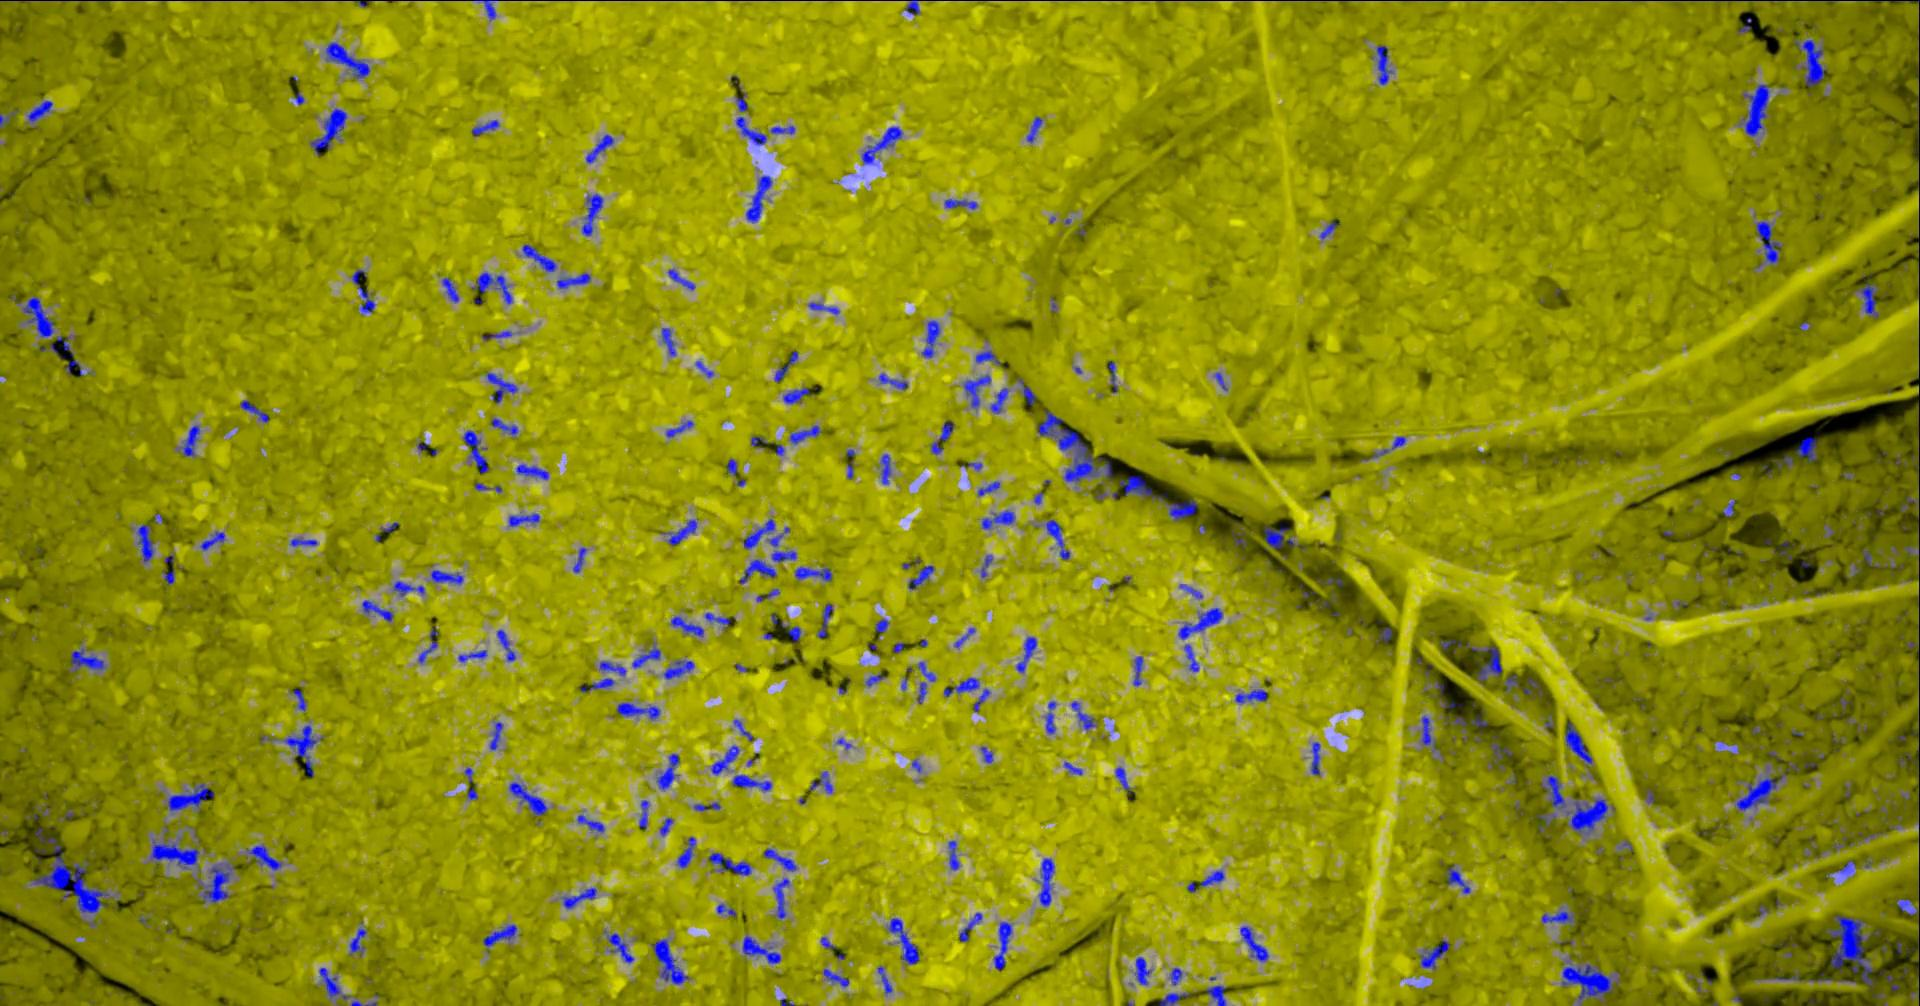ant: (1561, 963, 1617, 1005), (283, 725, 323, 776), (1736, 774, 1785, 810), (650, 939, 688, 984), (310, 107, 345, 155), (1566, 798, 1614, 833), (1793, 38, 1826, 86), (325, 42, 370, 77), (1740, 84, 1769, 136), (861, 126, 902, 163), (198, 862, 235, 902), (150, 838, 199, 868), (22, 295, 55, 337), (1178, 607, 1222, 639), (888, 918, 918, 963), (508, 782, 547, 815), (168, 782, 213, 810), (471, 272, 510, 304), (745, 175, 771, 222), (1119, 475, 1166, 500), (1564, 721, 1592, 763), (1755, 221, 1782, 263), (1263, 523, 1305, 550), (55, 335, 83, 375), (742, 935, 780, 963), (350, 269, 375, 312), (767, 526, 796, 561), (1239, 926, 1269, 962), (463, 431, 488, 473), (1470, 647, 1501, 680), (485, 372, 517, 403), (743, 518, 775, 549), (709, 852, 750, 875), (483, 923, 517, 951), (1045, 520, 1069, 559), (521, 244, 556, 271), (662, 518, 697, 545), (245, 843, 281, 870), (963, 373, 990, 406), (738, 559, 776, 583), (993, 921, 1012, 969), (770, 612, 800, 641), (1418, 939, 1449, 968), (710, 746, 739, 775), (735, 116, 766, 144), (582, 193, 602, 235), (70, 648, 104, 672), (585, 133, 613, 163), (657, 753, 679, 789), (1037, 857, 1054, 906), (1858, 279, 1878, 318), (417, 627, 438, 663), (930, 420, 952, 453), (1542, 775, 1564, 808), (763, 848, 796, 871), (606, 934, 632, 962), (1445, 864, 1470, 893), (1016, 636, 1036, 672), (616, 702, 659, 719), (1490, 734, 1511, 767), (563, 887, 596, 908), (1070, 701, 1095, 730), (921, 320, 940, 357), (775, 351, 797, 381), (317, 967, 340, 997), (361, 600, 392, 621), (943, 677, 979, 696), (670, 616, 703, 636), (959, 912, 982, 941), (1167, 498, 1197, 520), (731, 774, 771, 790), (907, 565, 933, 589), (239, 400, 268, 422), (773, 878, 789, 918), (1895, 898, 1919, 923), (789, 426, 820, 445), (497, 629, 516, 661), (667, 268, 695, 290), (1377, 44, 1392, 84), (982, 511, 1015, 528), (180, 426, 199, 456), (137, 523, 152, 561), (663, 661, 693, 680), (632, 647, 660, 667), (556, 272, 590, 288), (1421, 715, 1437, 749), (677, 836, 695, 868), (1895, 932, 1919, 955), (27, 100, 52, 122), (1796, 436, 1817, 461), (579, 677, 615, 692), (1016, 377, 1035, 405), (1115, 767, 1131, 799), (472, 0, 498, 20), (794, 567, 830, 580), (516, 464, 549, 479), (430, 569, 463, 584), (817, 603, 832, 636), (577, 814, 604, 832), (809, 771, 832, 793), (392, 580, 424, 596), (703, 612, 735, 627), (665, 420, 693, 437), (1234, 688, 1267, 702), (823, 968, 848, 986), (877, 373, 907, 389), (1026, 116, 1043, 142), (349, 929, 366, 955), (201, 531, 223, 550), (471, 119, 499, 135), (1134, 956, 1149, 984), (442, 277, 458, 302), (990, 387, 1007, 413), (491, 418, 517, 434), (1199, 870, 1224, 887), (1542, 909, 1575, 922), (1205, 984, 1225, 1005), (733, 719, 752, 741), (877, 965, 891, 995), (782, 387, 809, 403), (971, 688, 989, 711), (662, 326, 676, 354), (1911, 434, 1919, 485), (508, 513, 538, 526), (954, 627, 974, 647), (1523, 678, 1542, 699), (943, 198, 977, 210), (1183, 644, 1197, 671), (458, 649, 488, 662), (1912, 761, 1919, 819), (1159, 992, 1189, 1005), (808, 302, 839, 314), (599, 661, 625, 674), (489, 721, 502, 749), (163, 554, 174, 584), (290, 688, 305, 711), (975, 351, 999, 365), (571, 547, 585, 572), (1178, 583, 1203, 597), (918, 661, 935, 681), (1107, 361, 1117, 392), (1045, 701, 1055, 733), (977, 481, 999, 495), (880, 453, 890, 484), (949, 840, 959, 870), (1131, 655, 1142, 685), (1319, 221, 1337, 238), (695, 361, 712, 377), (1470, 715, 1487, 733), (1310, 741, 1319, 774), (1900, 495, 1919, 511), (756, 588, 778, 601), (1771, 455, 1792, 469), (474, 481, 502, 492), (1537, 812, 1550, 832), (1444, 715, 1465, 728), (1230, 528, 1244, 547), (1439, 639, 1462, 650), (481, 330, 510, 339), (1835, 860, 1855, 873), (659, 817, 673, 835), (980, 555, 992, 577), (865, 673, 884, 686), (1063, 761, 1082, 774), (716, 903, 735, 916), (290, 537, 316, 546), (639, 800, 648, 827), (1170, 967, 1182, 984), (916, 681, 926, 702), (770, 124, 794, 133), (1377, 627, 1390, 643), (1503, 674, 1517, 690), (0, 111, 13, 127), (905, 0, 919, 14), (874, 619, 888, 633), (737, 91, 747, 111), (750, 434, 767, 446), (980, 746, 992, 762), (1390, 436, 1404, 448), (1324, 577, 1343, 586), (726, 459, 737, 475), (1868, 0, 1919, 3)
